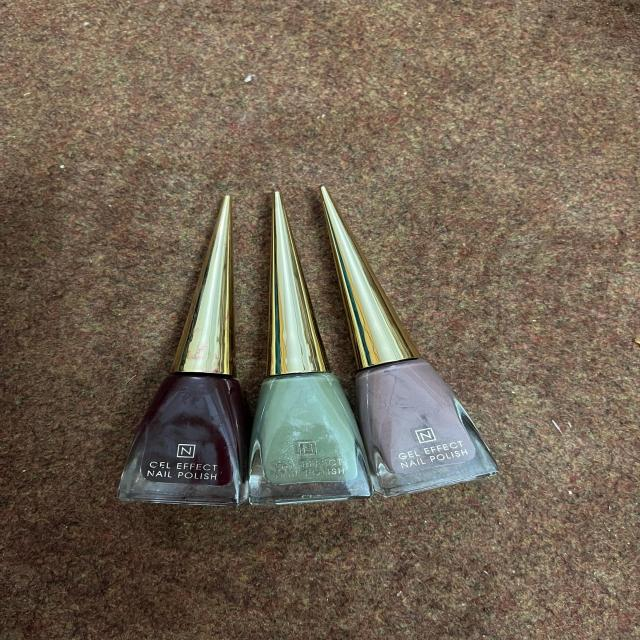nail polish: (343, 185, 512, 498), (98, 196, 242, 506), (238, 193, 366, 502)
